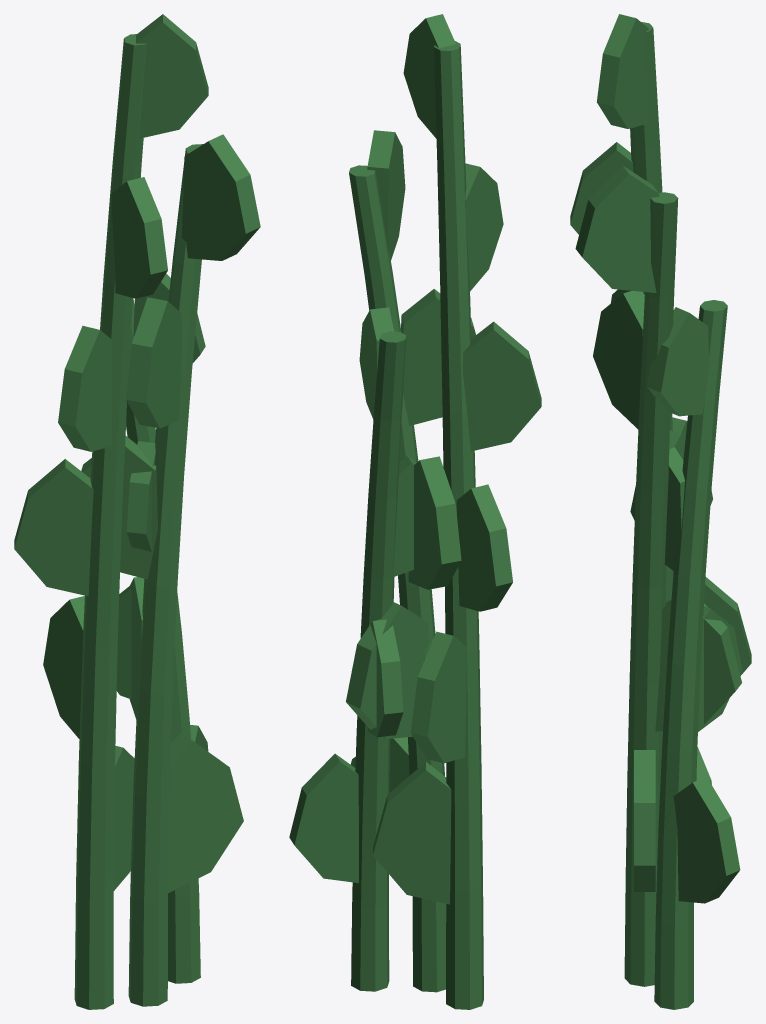
File: Kelp.fbx
3 views of the same model, side by side, from view 1: azimuth 30°, elevation 25°; view 2: azimuth 150°, elevation 25°; view 3: azimuth 270°, elevation 25° (orthographic). The views are drawn at different scales.
Parts seen in each view (by area): view 1: Kelp_GreenMat; view 2: Kelp_GreenMat; view 3: Kelp_GreenMat.
Boxes of the visible parts, <box> form: Kelp_GreenMat: <box>14,14,260,1009</box>; Kelp_GreenMat: <box>289,14,541,1009</box>; Kelp_GreenMat: <box>570,14,751,1009</box>.
Bounding box in the file's own units: 243 × 1073 × 183.
